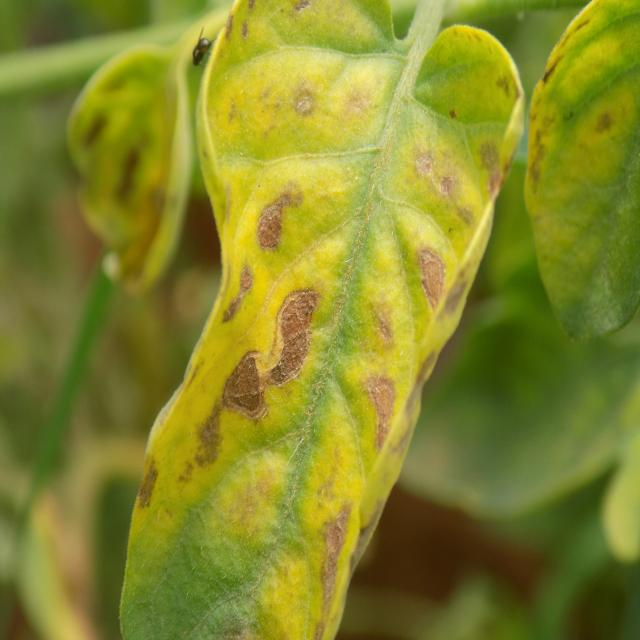tomato_early blight: (122, 1, 528, 640), (529, 0, 639, 341), (70, 45, 196, 303)
